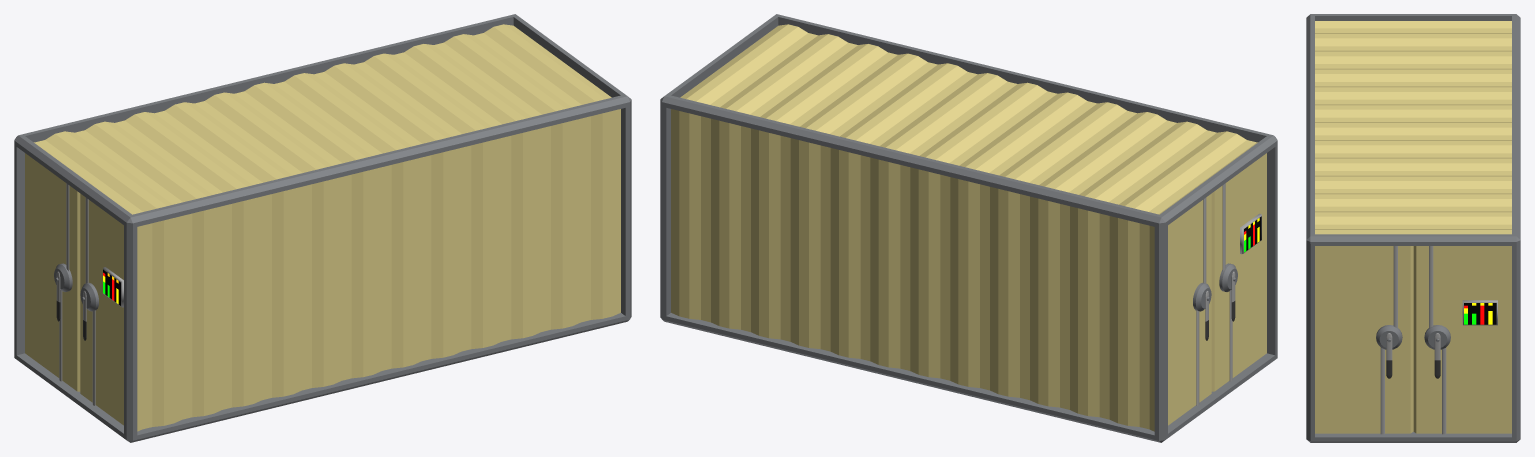
File: prop_container20ft.fbx
3 views of the same model, side by side, from view 1: azimuth 30°, elevation 25°; view 2: azimuth 150°, elevation 25°; view 3: azimuth 270°, elevation 25° (orthographic). The views are drawn at different scales.
Visible parts, largest first — view 1: Container, pCylinder2, LockbarBottom, LockbarTop, screen; view 2: Container, pCylinder2, LockbarBottom, LockbarTop, screen; view 3: Container, screen, pCylinder2, LockbarBottom, LockbarTop, Handle.
Part boxes in pixels (x1,y1,x2,y2): Container: (14,14,631,442); pCylinder2: (54,263,98,311); LockbarBottom: (59,290,95,405); LockbarTop: (66,183,88,283); screen: (103,267,123,307); Container: (660,14,1277,442); pCylinder2: (1193,263,1237,311); LockbarBottom: (1196,290,1232,405); LockbarTop: (1203,183,1225,283); screen: (1240,213,1261,254); Container: (1306,14,1520,442); screen: (1462,300,1497,325); pCylinder2: (1376,325,1450,349); LockbarBottom: (1380,347,1446,434); LockbarTop: (1393,246,1433,328); Handle: (1386,333,1440,378).
Size of the model in its own units: 6.08 by 2.59 by 2.43.
